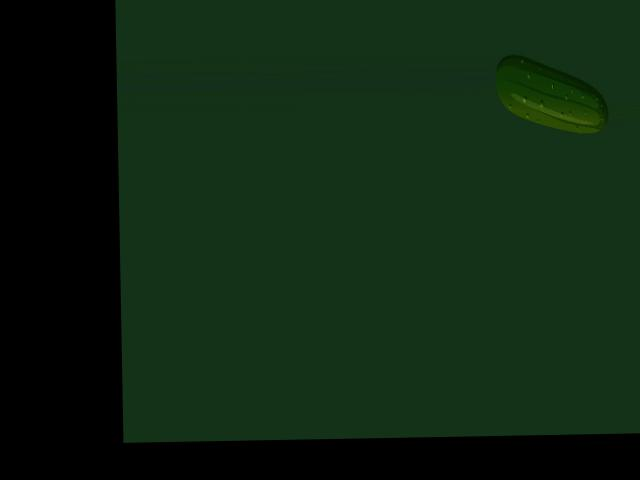cucumber: (495, 52, 608, 134)
